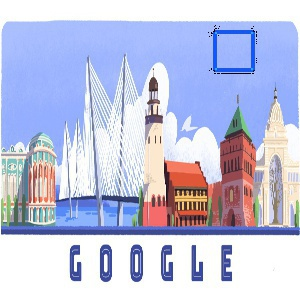square: (212, 29, 257, 73)
